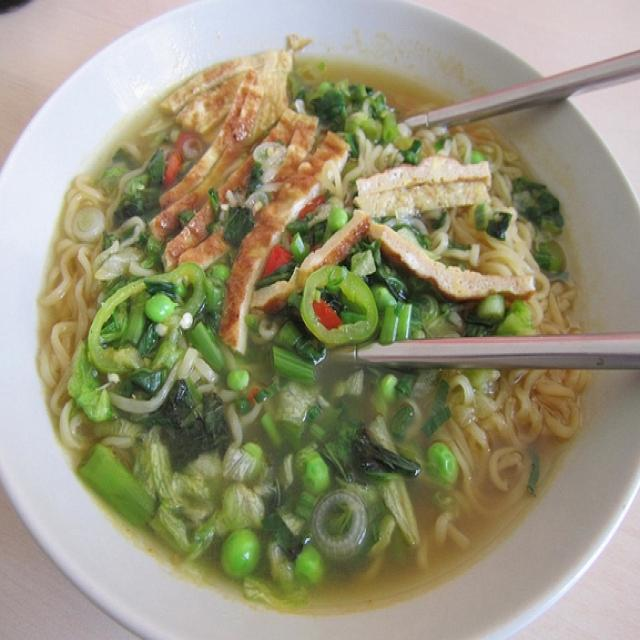面条主食: (18, 18, 623, 607)
